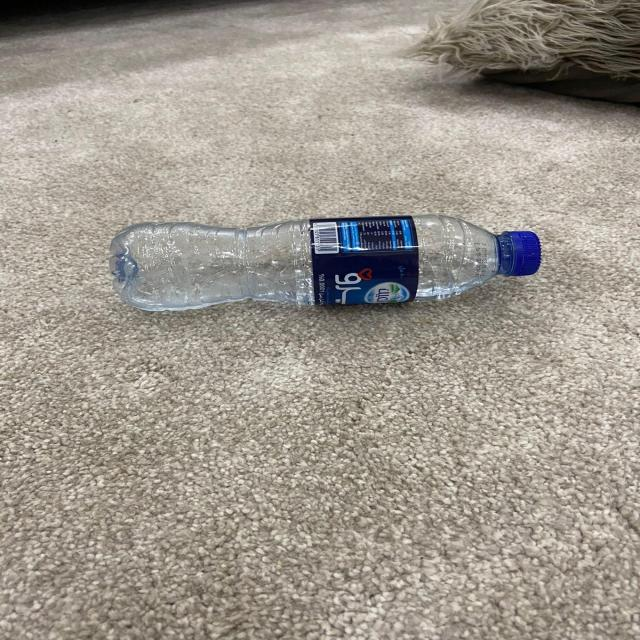bottle: (100, 203, 566, 324)
